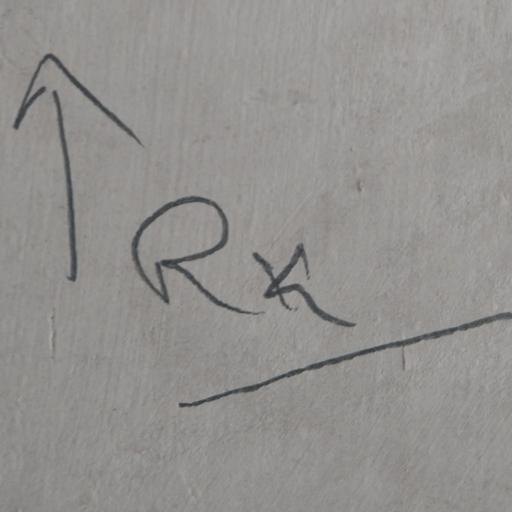stain: (12, 26, 512, 421)
